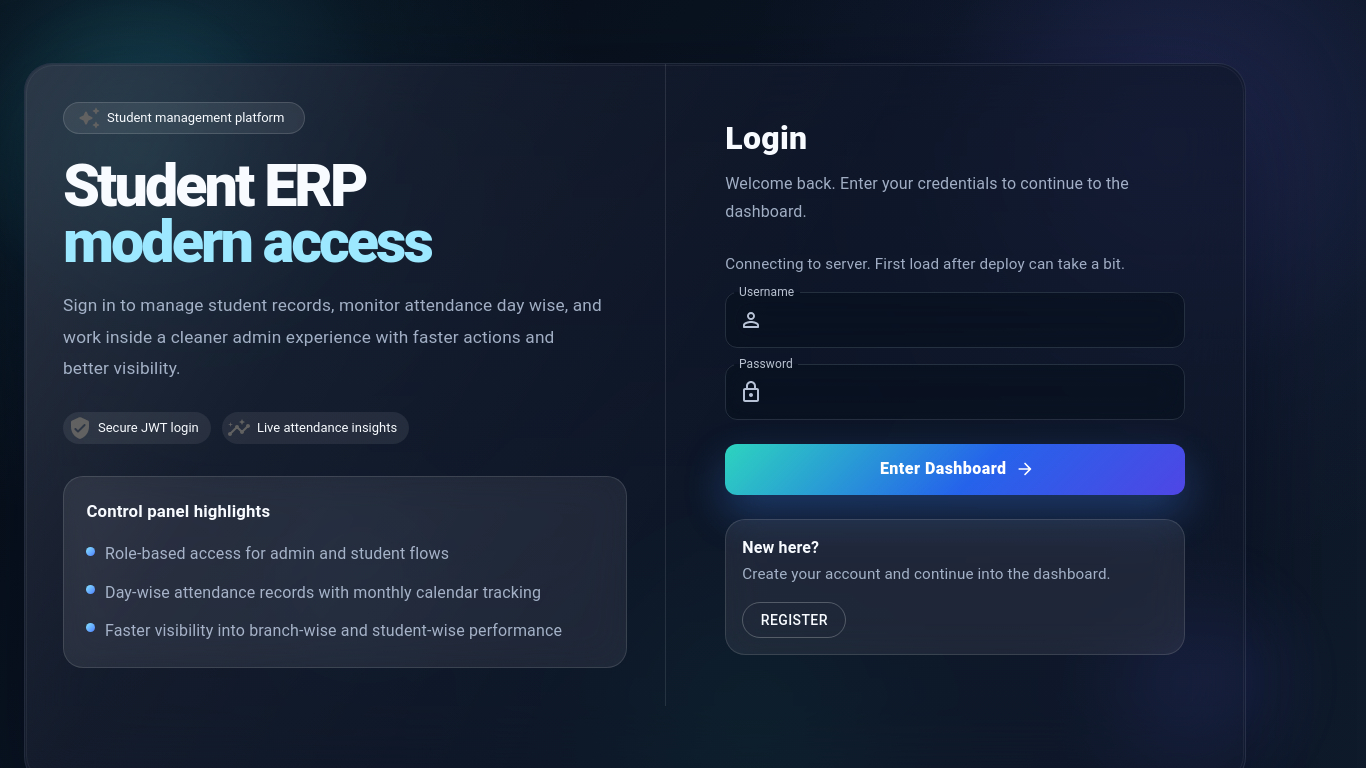
Test: Login Component › shows an error message on failed login
The width and height of the screenshot is (1366, 768).
Step 1. Type "user" into the field labelled "Username" → (979, 320), box [772,292,1185,348]
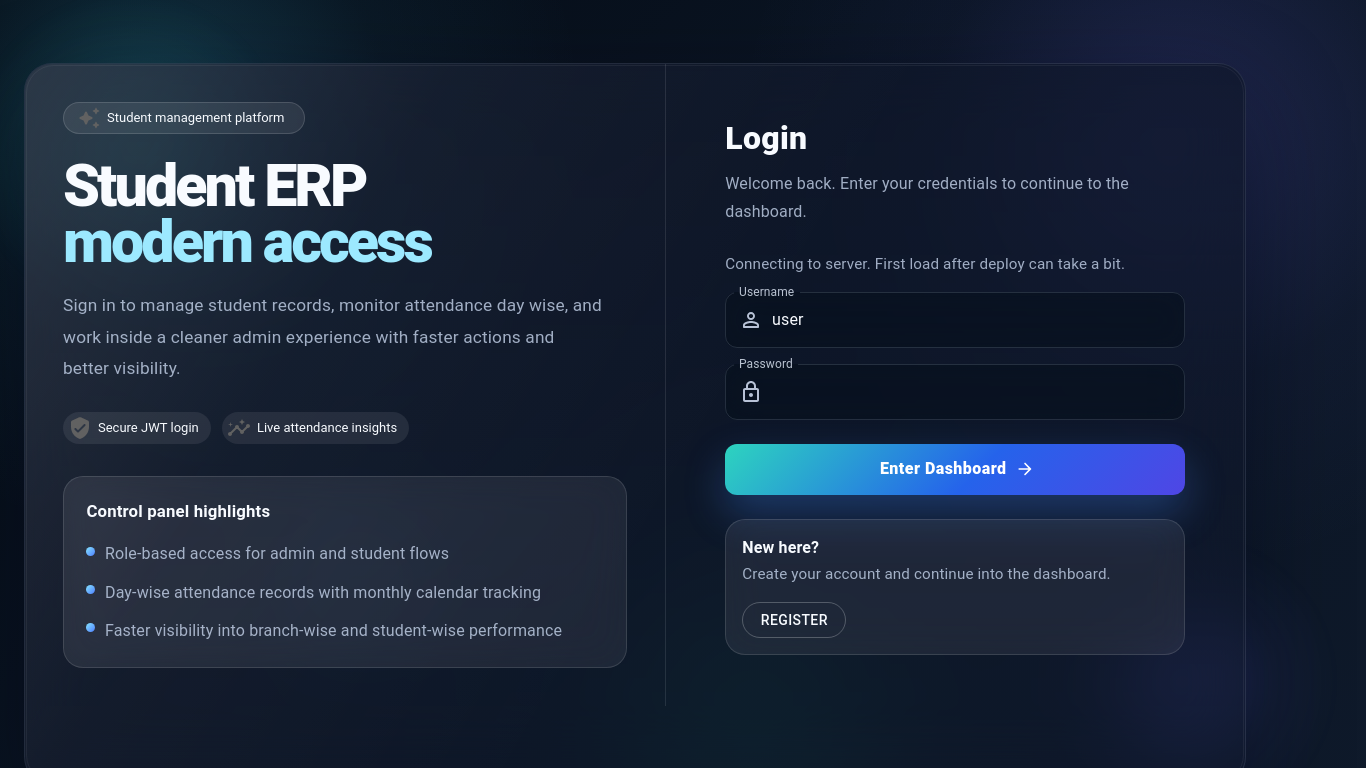
Step 2. Type "wrong" into the password field labelled "Password" → (979, 392), box [772,364,1185,420]
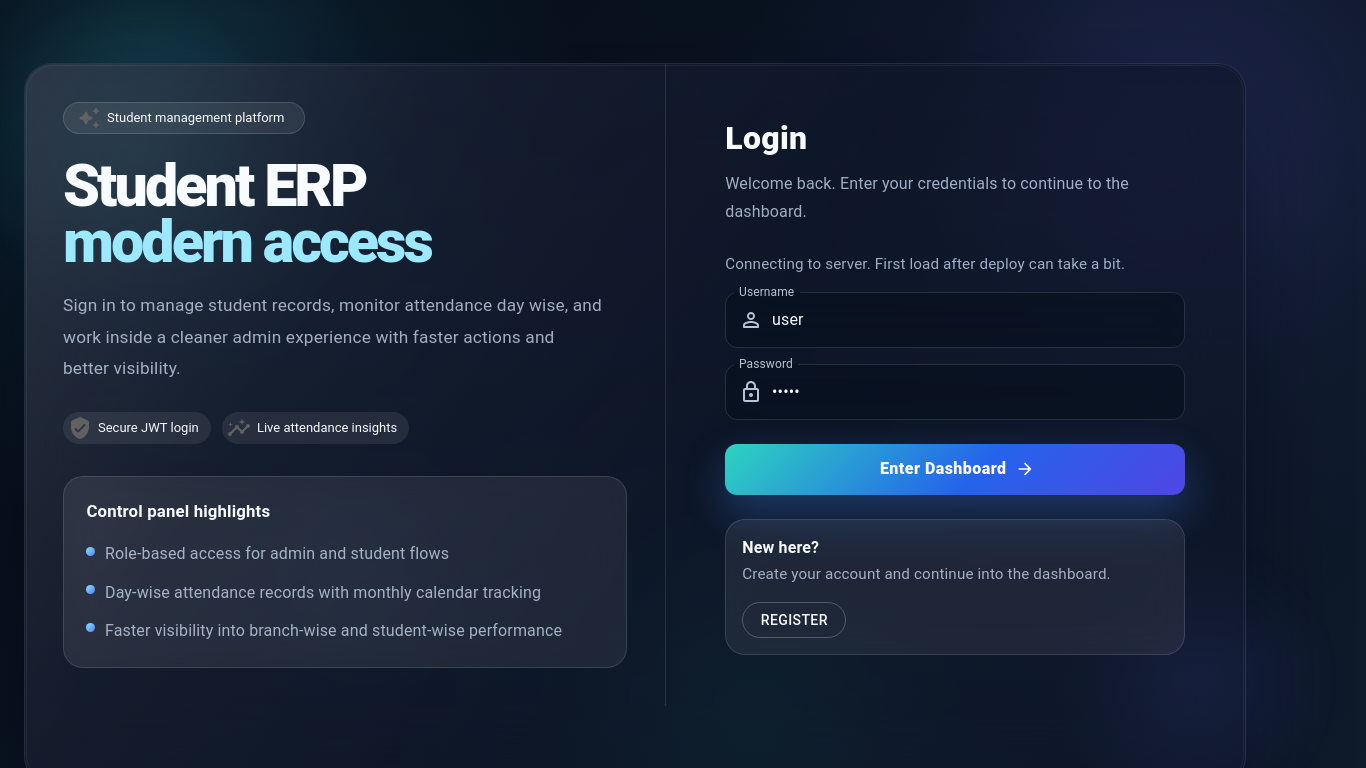
Step 3. Click the button "Enter Dashboard" → (955, 469), box [725,444,1185,495]
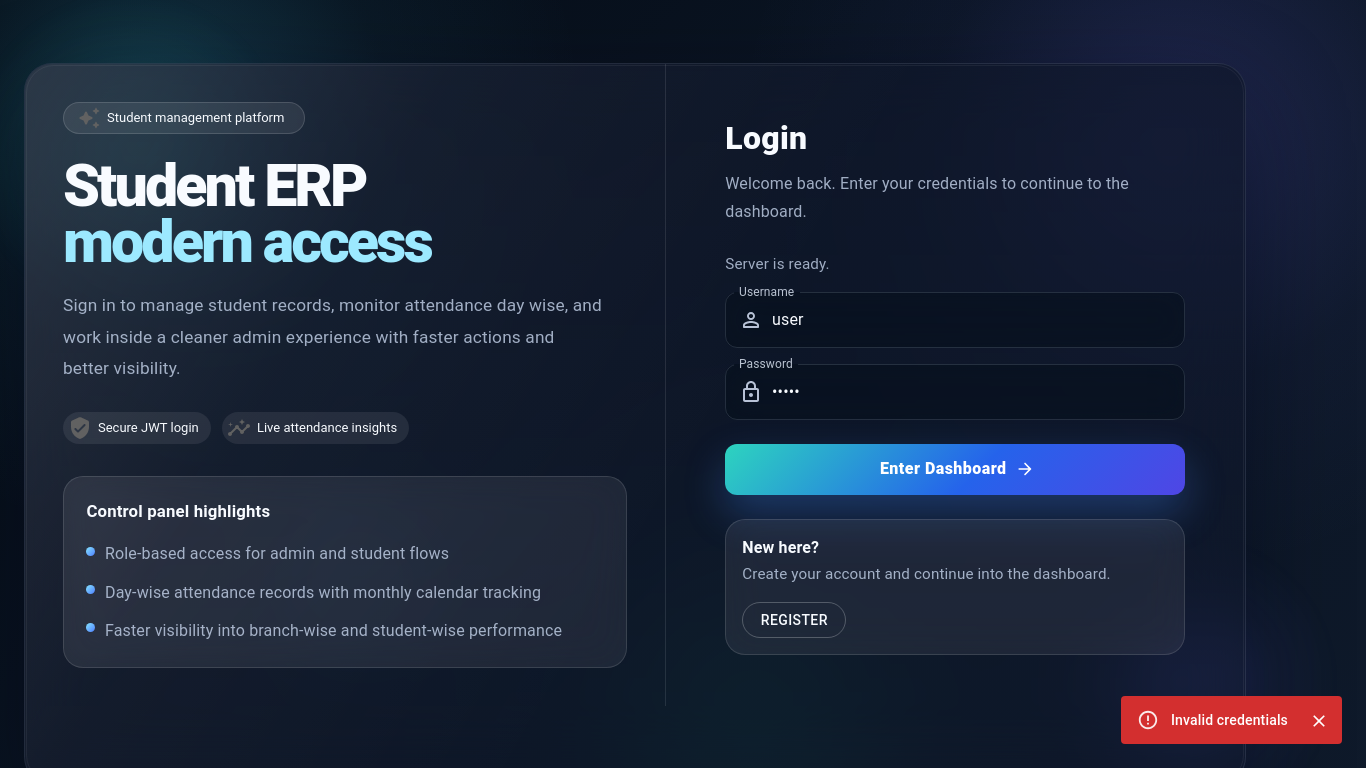
Now the text "Invalid credentials" is shown, box [1171,712,1288,728]
